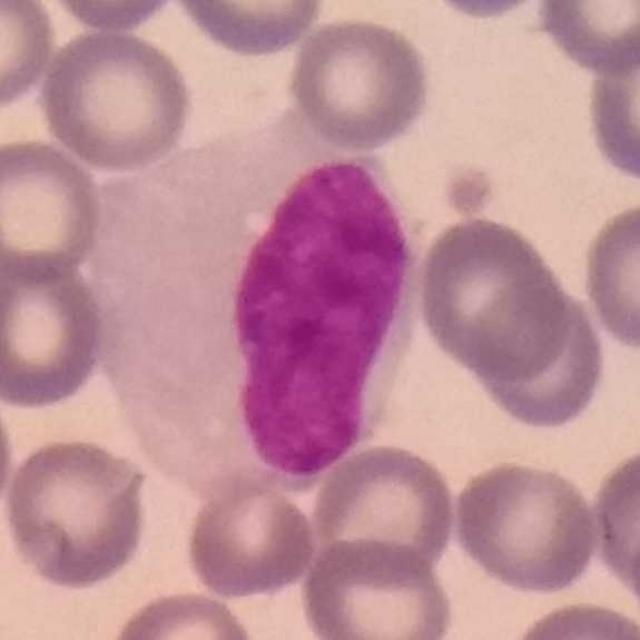mono: (84, 112, 432, 505)
